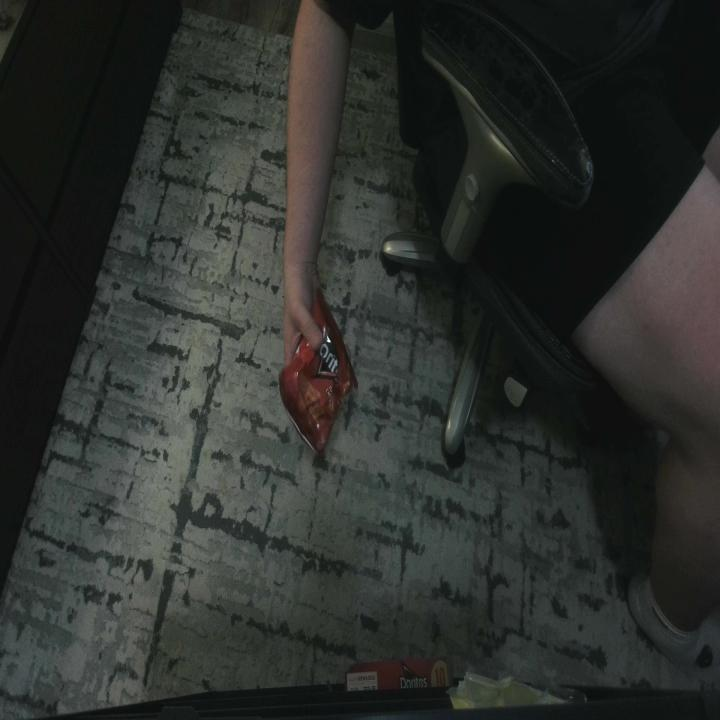Doritos: (279, 294, 354, 457)
